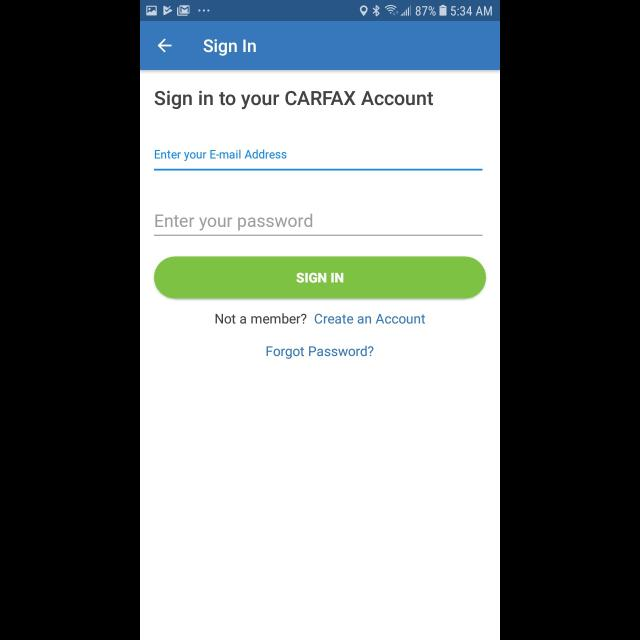icon: (158, 38, 172, 54)
input: (154, 214, 482, 236), (155, 149, 483, 171)
text: (155, 90, 433, 110), (156, 213, 312, 230), (155, 150, 287, 162), (266, 345, 374, 359), (314, 314, 426, 324), (204, 39, 256, 57), (216, 314, 306, 324)
textbutton: (154, 256, 486, 300)
uppertaskbar: (140, 1, 500, 22)
